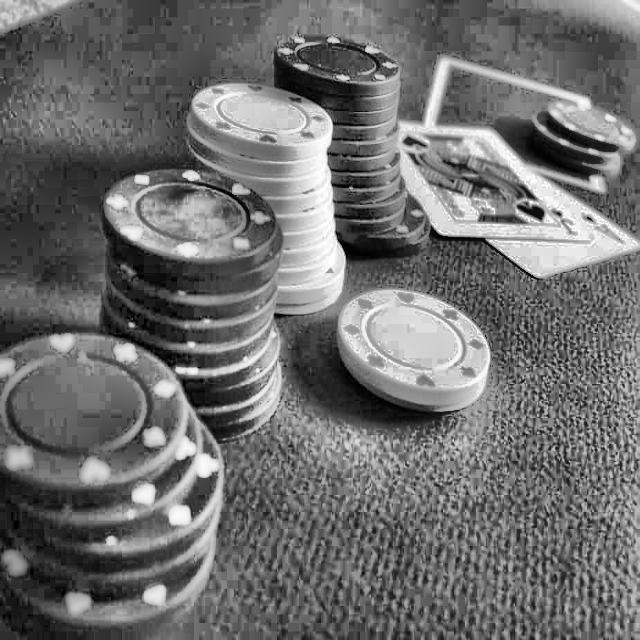Chip: (2, 336, 225, 640), (94, 156, 290, 447), (187, 79, 352, 334), (273, 25, 443, 262), (333, 290, 503, 426), (528, 79, 636, 186)
